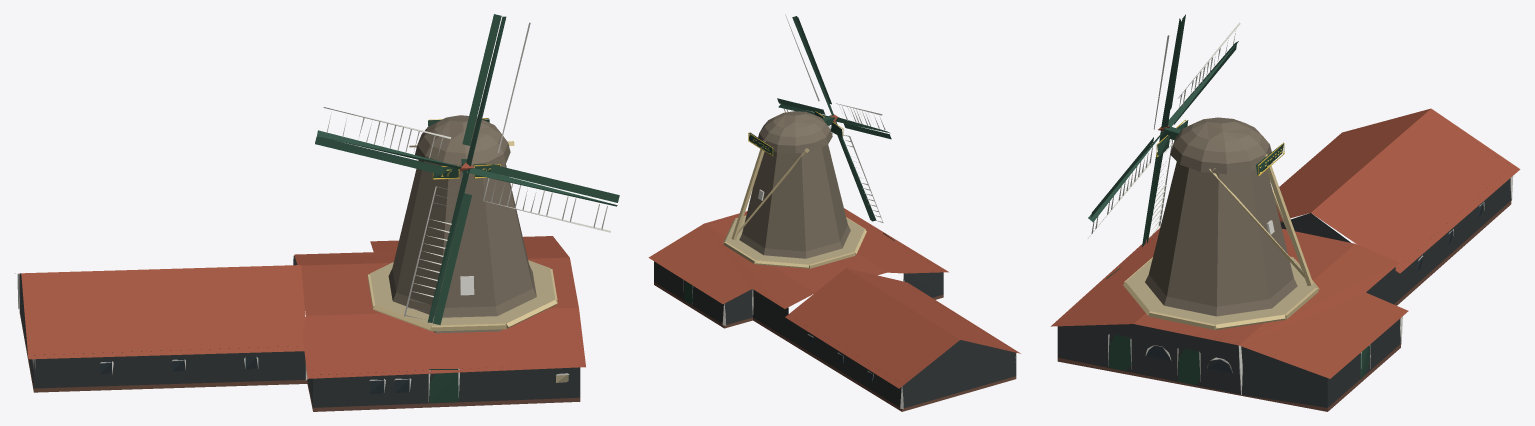
The model's file is d-admiraal.lod1.glb.
3 views of the same model, side by side, from view 1: azimuth 30°, elevation 25°; view 2: azimuth 150°, elevation 25°; view 3: azimuth 270°, elevation 25° (orthographic). The views are drawn at different scales.
Visible parts, largest first — view 1: d-admiraal; view 2: d-admiraal; view 3: d-admiraal.
Part boxes in pixels (box(x1,y1,x2,y2)): d-admiraal: box(15, 14, 619, 411); d-admiraal: box(648, 14, 1020, 411); d-admiraal: box(1051, 14, 1520, 411).
Size of the model in its own units: 33.07 by 21.02 by 26.51.
